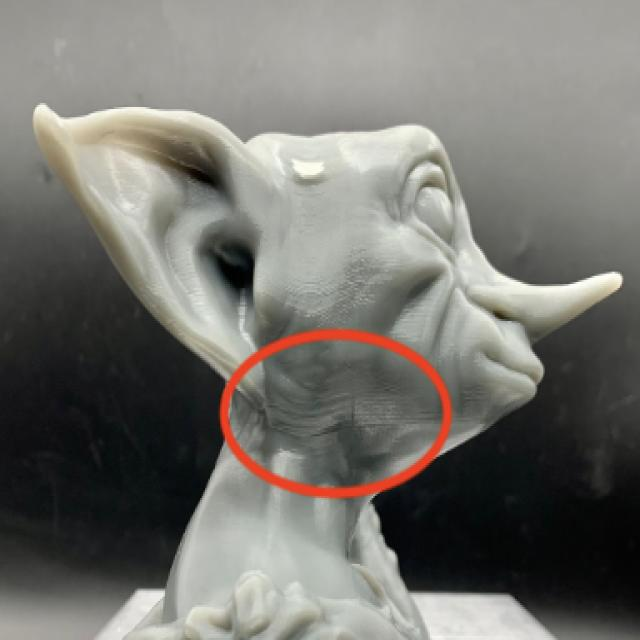cracks: (264, 391, 388, 451)
